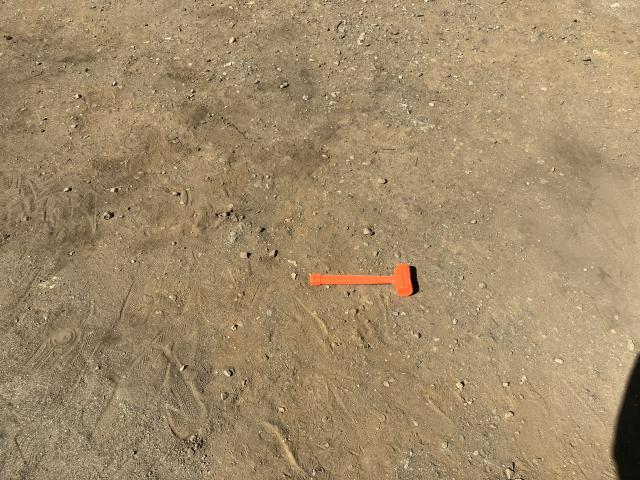hammer: (310, 263, 414, 296)
